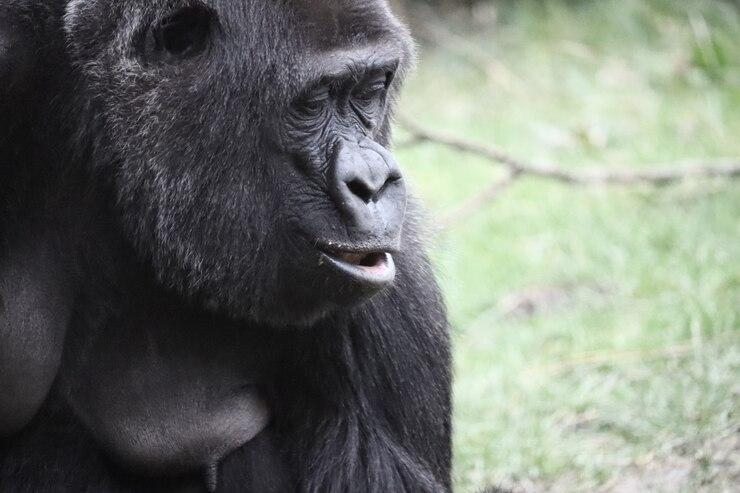gorille_Autres: (0, 1, 479, 493)
